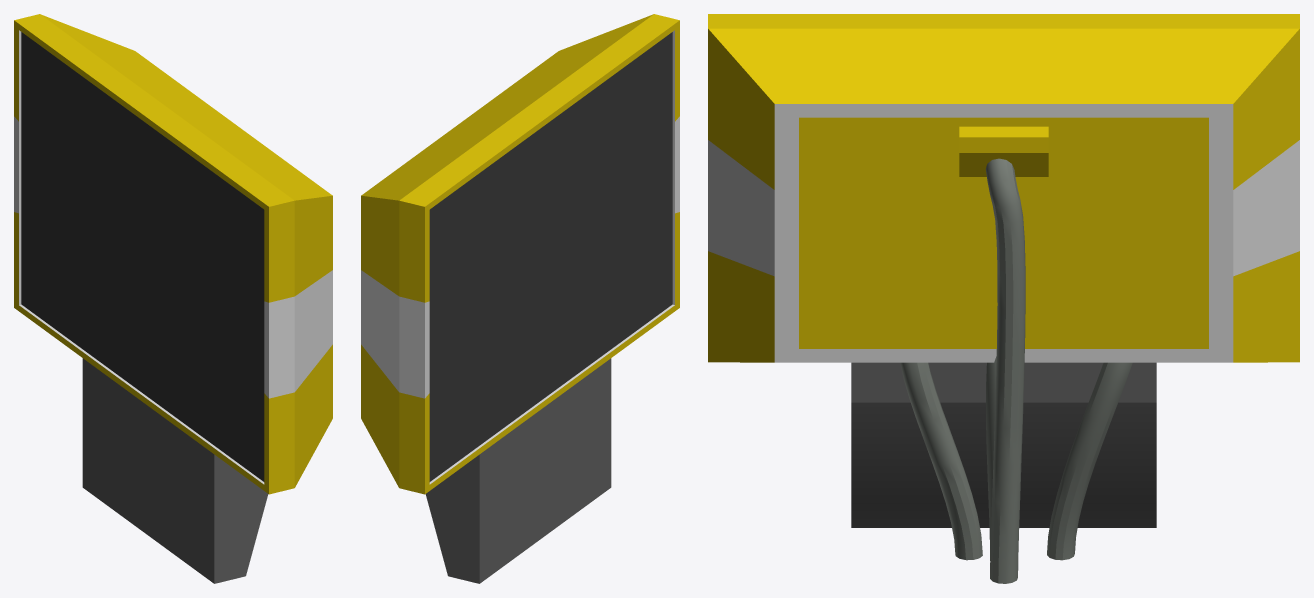
File:  Terminal.fbx
The picture shows the model from 3 angles, left to right: view 1: azimuth 30°, elevation 25°; view 2: azimuth 150°, elevation 25°; view 3: azimuth 270°, elevation 25°; orthographic projection. The views are drawn at different scales.
Visible parts, largest first — view 1: Cube.001, Cube; view 2: Cube.001, Cube; view 3: Cube.001, Cube, BézierCurve.003.
Part boxes in pixels (box(x1,y1,x2,y2)): Cube.001: box(14, 14, 332, 494); Cube: box(82, 358, 268, 583); Cube.001: box(361, 14, 679, 494); Cube: box(425, 358, 611, 583); Cube.001: box(708, 14, 1299, 362); Cube: box(851, 362, 1156, 527); BézierCurve.003: box(900, 158, 1132, 583).
Size of the model in its own units: 85.93 by 306 by 321.
